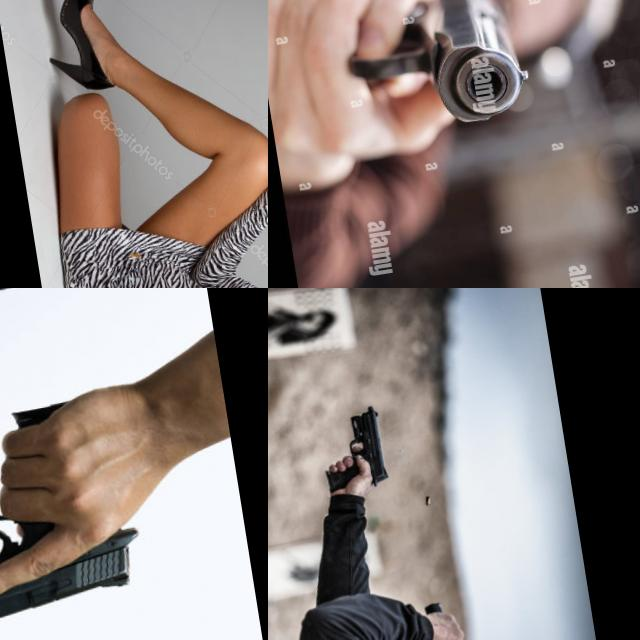handgun: (336, 0, 535, 144), (0, 492, 154, 640), (314, 402, 392, 496)
